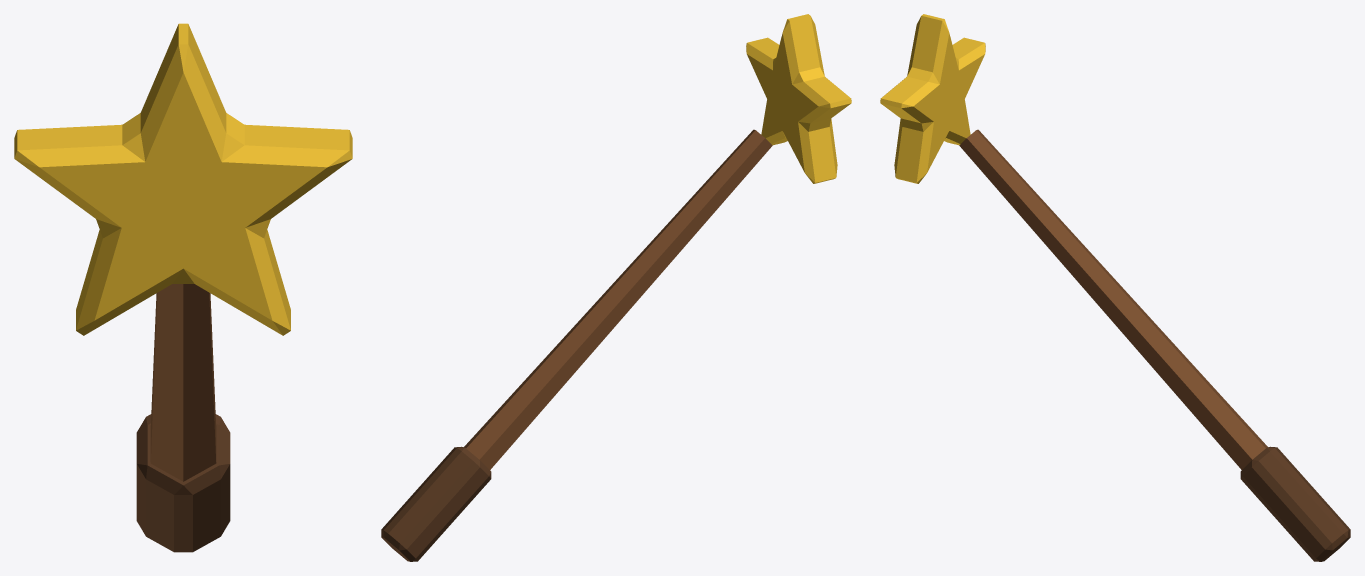
Rendered from wand.glb.
The picture shows the model from 3 angles, left to right: view 1: azimuth 30°, elevation 25°; view 2: azimuth 150°, elevation 25°; view 3: azimuth 270°, elevation 25°; orthographic projection. The views are drawn at different scales.
Visible parts, largest first — view 1: wand; view 2: wand; view 3: wand.
Boxes of the visible parts, bbox=[...] form: wand: bbox=[14, 23, 352, 552]; wand: bbox=[381, 14, 851, 561]; wand: bbox=[880, 14, 1350, 561].
Bounding box in the file's own units: 0.2466 × 0.3664 × 0.3486.
